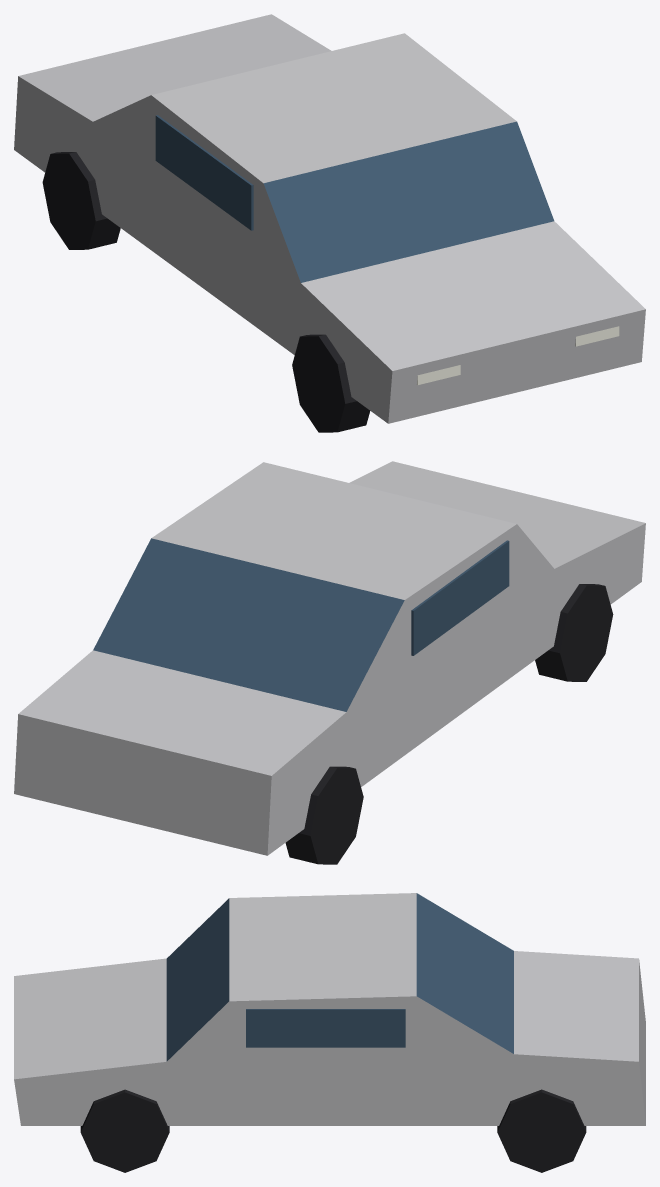
The model's file is carro_rua_1.glb.
3 views of the same model, one above another, from view 1: azimuth 30°, elevation 25°; view 2: azimuth 150°, elevation 25°; view 3: azimuth 270°, elevation 25° (orthographic). The views are drawn at different scales.
Parts seen in each view (by area): view 1: cor, vi, pre, far; view 2: cor, vi, pre; view 3: cor, vi, pre.
Boxes of the visible parts, x1=… form: cor: x1=14, y1=14, x2=645, y2=423; vi: x1=155, y1=115, x2=554, y2=282; pre: x1=42, y1=152, x2=369, y2=432; far: x1=417, y1=326, x2=619, y2=385; cor: x1=14, y1=461, x2=645, y2=855; vi: x1=93, y1=538, x2=509, y2=711; pre: x1=285, y1=584, x2=613, y2=864; cor: x1=14, y1=893, x2=645, y2=1125; vi: x1=166, y1=893, x2=513, y2=1061; pre: x1=80, y1=1089, x2=586, y2=1172.
Bounding box in the file's own units: 1.86 × 1.38 × 4.55.
